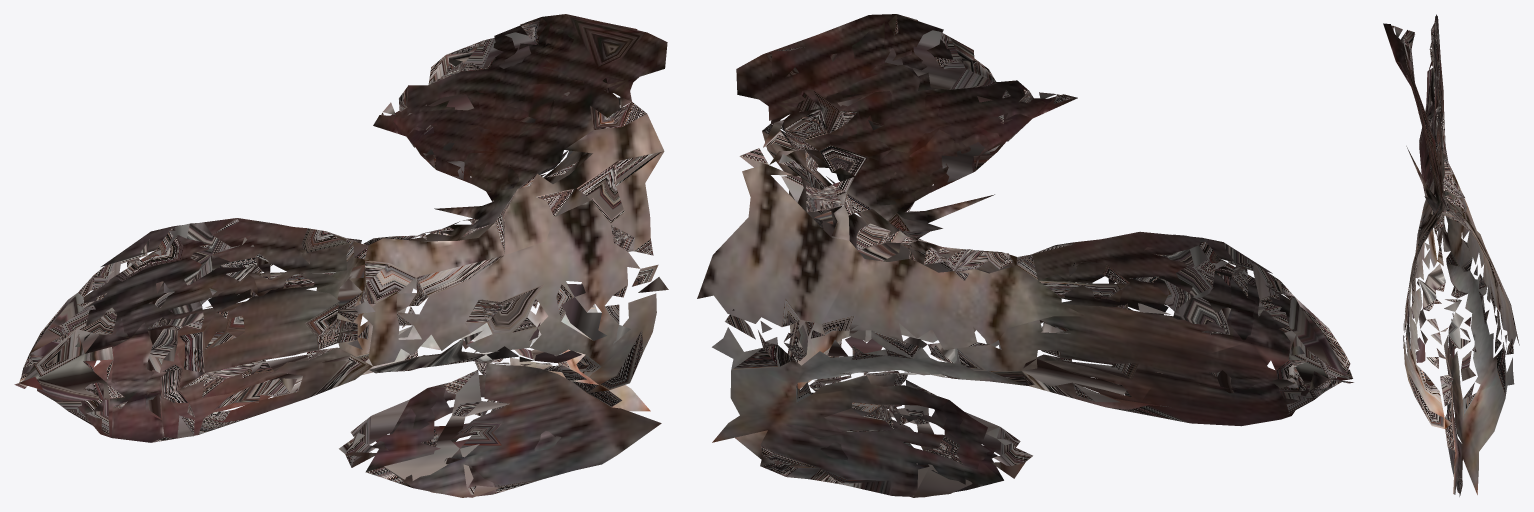
File: lionfish_b.glb
3 views of the same model, side by side, from view 1: azimuth 30°, elevation 25°; view 2: azimuth 150°, elevation 25°; view 3: azimuth 270°, elevation 25° (orthographic). The views are drawn at different scales.
Visible parts, largest first — view 1: lionfish_b; view 2: lionfish_b; view 3: lionfish_b.
Part boxes in pixels (left/top/right/bottom): lionfish_b: left=14, top=14, right=668, bottom=497; lionfish_b: left=697, top=14, right=1353, bottom=497; lionfish_b: left=1383, top=14, right=1519, bottom=496.
Bounding box in the file's own units: 0.2449 × 0.1742 × 0.0531.
1 material, 1 textured.
